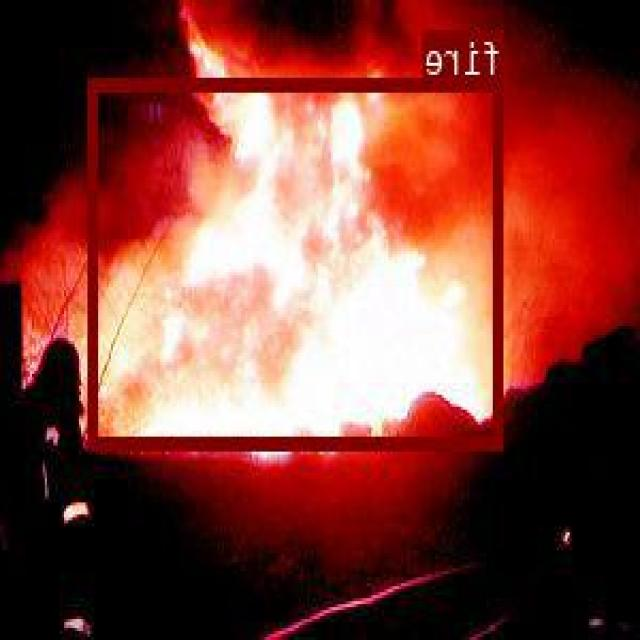fire: (91, 77, 505, 447)
